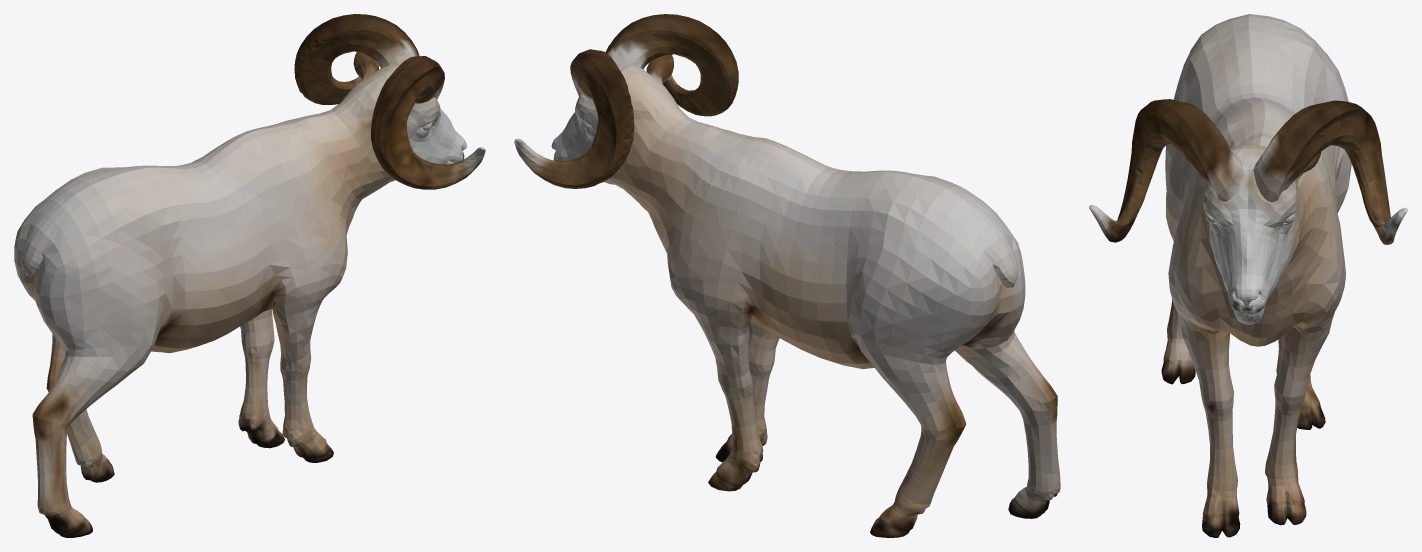
Rendered from sheep.pred.glb.
3 renders of one model, left to right at view 1: azimuth 30°, elevation 25°; view 2: azimuth 150°, elevation 25°; view 3: azimuth 270°, elevation 25°, orthographic. The views are drawn at different scales.
Visible parts, largest first — view 1: root; view 2: root; view 3: root.
Part boxes in pixels (x1=…): root: x1=14, y1=14, x2=485, y2=537; root: x1=514, y1=14, x2=1060, y2=537; root: x1=1089, y1=14, x2=1407, y2=537.
Bounding box in the file's own units: 0.5883 × 0.4823 × 0.2921.
1 material, 1 textured.
